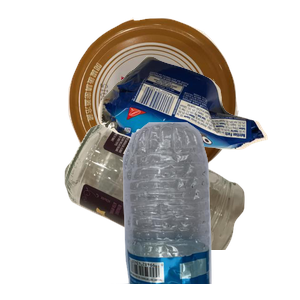glass: (62, 120, 300, 300)
metal: (66, 15, 297, 193)
plastic: (111, 120, 300, 300)
trash: (95, 53, 300, 195)
